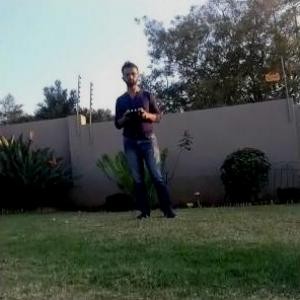follow: (112, 51, 180, 217)
